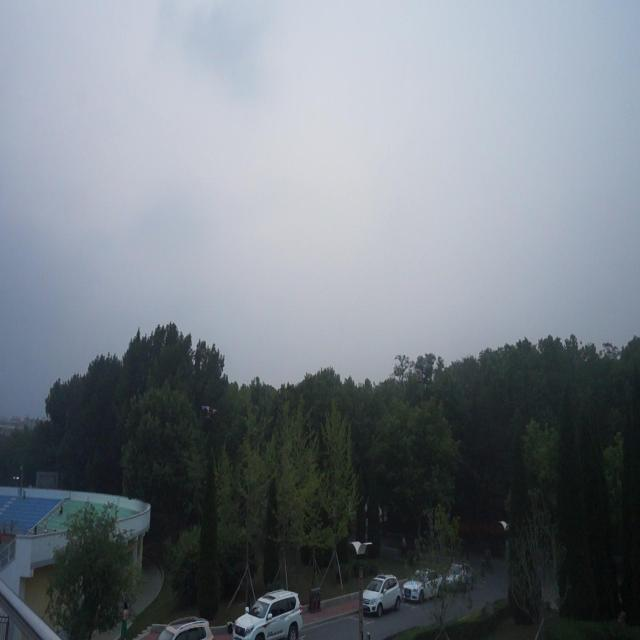drone: (199, 402, 219, 421)
